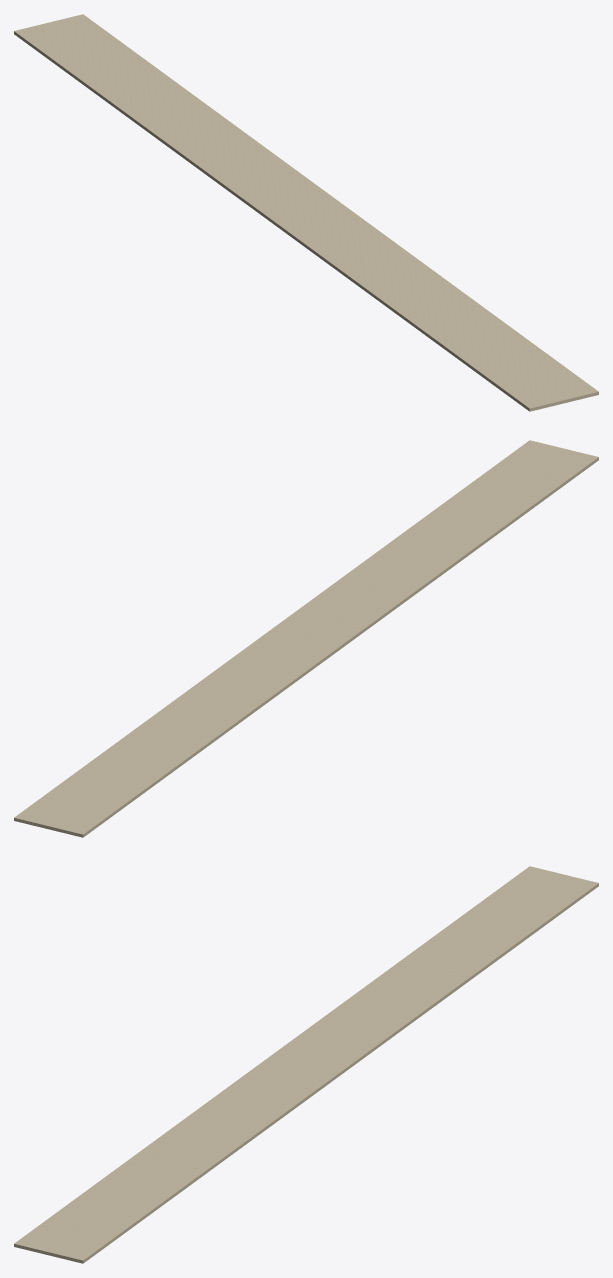
Rendered from SERVICE_D09_PF_inner_00__floor.glb.
3 views of the same model, one above another, from view 1: azimuth 30°, elevation 25°; view 2: azimuth 150°, elevation 25°; view 3: azimuth 330°, elevation 25° (orthographic).
Visible parts, largest first — view 1: SERVICE_D09_PF_inner_00__floor__warm_stone; view 2: SERVICE_D09_PF_inner_00__floor__warm_stone; view 3: SERVICE_D09_PF_inner_00__floor__warm_stone.
Part boxes in pixels (x1=…): SERVICE_D09_PF_inner_00__floor__warm_stone: x1=14, y1=14, x2=598, y2=411; SERVICE_D09_PF_inner_00__floor__warm_stone: x1=14, y1=440, x2=598, y2=837; SERVICE_D09_PF_inner_00__floor__warm_stone: x1=14, y1=866, x2=598, y2=1263.
Size of the model in its own units: 5.5 by 0.24 by 71.
1 material, 1 textured.
